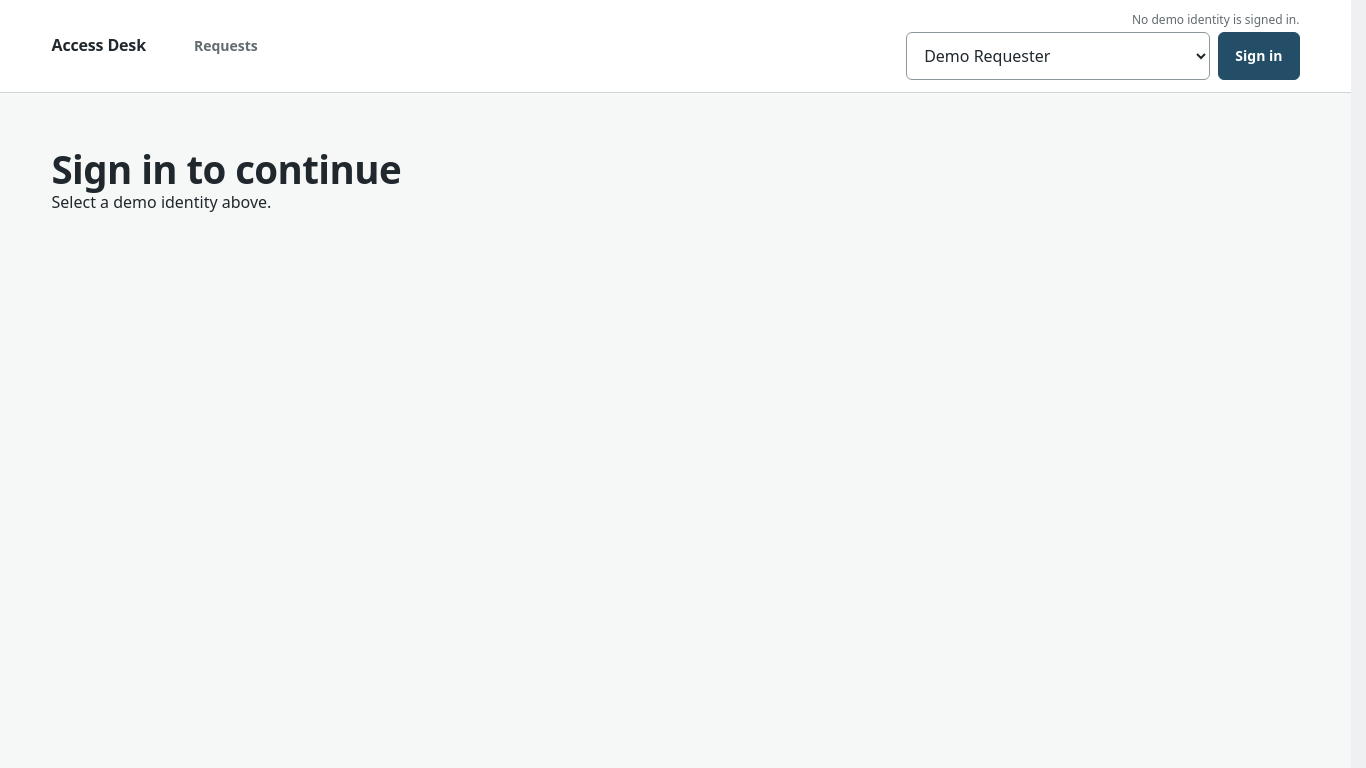
Scenario: application session wiring › opens a request URL and refreshes server-computed actions after identity switching
Expected: the heading "Sign in to continue" is shown, [52,143,401,195]
Select "Demo Requester" in the dropdown named "Demo identity" at (1058, 56), box [906,32,1210,80]
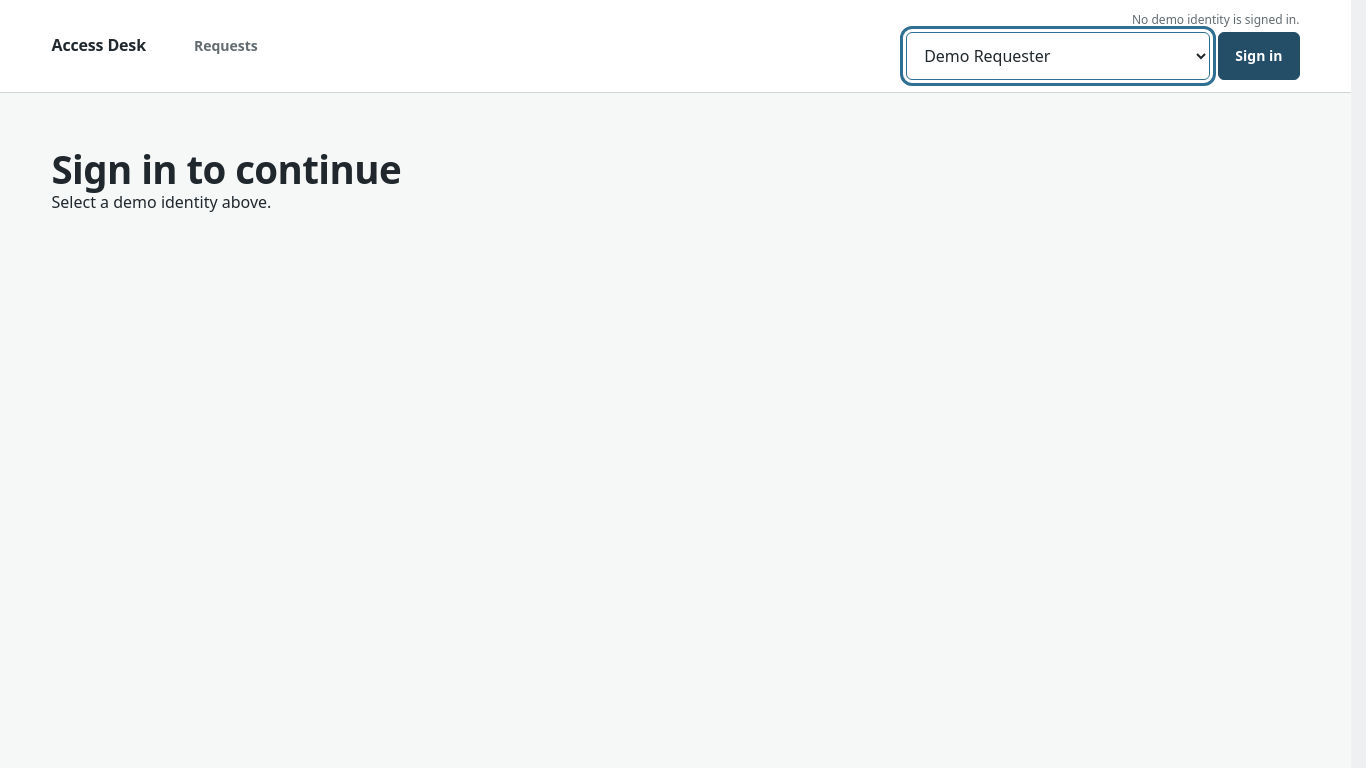
Click the button "Sign in" at (1259, 56), box [1218,32,1300,80]
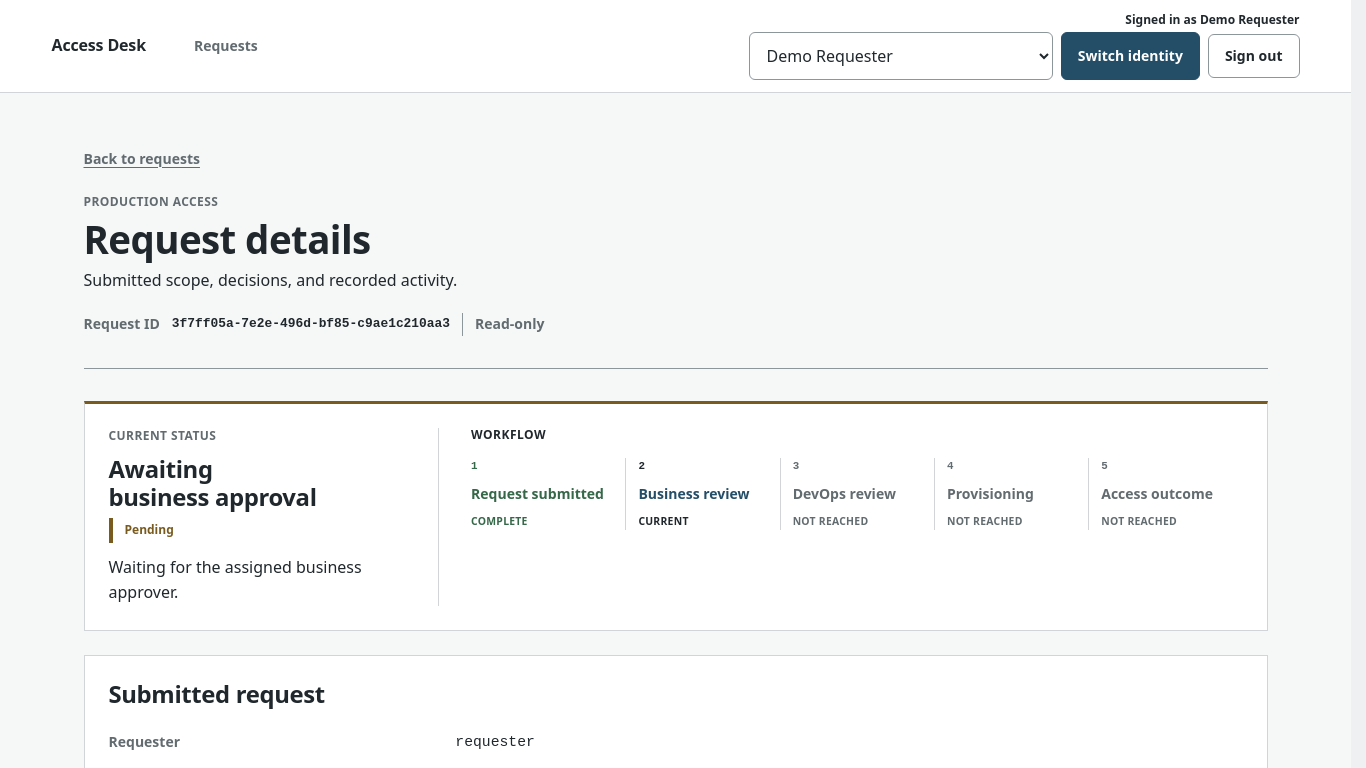
Now the heading "Request details" is shown, box [84,213,371,265]
Now the element "Awaiting business approval" is shown, box [84,401,1268,631]
Select "Client Alpha Business Approver" in the dropdown named "Demo identity" at (901, 56), box [749,32,1053,80]
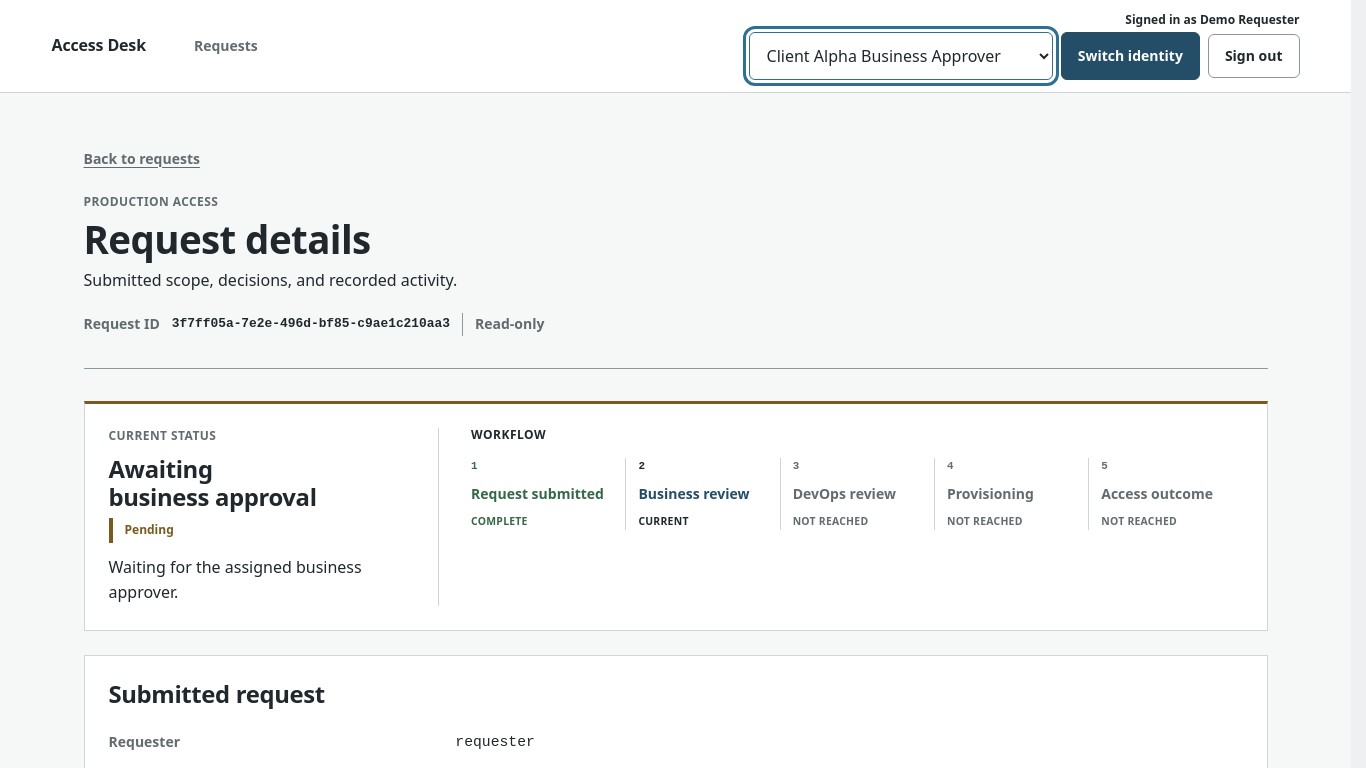
Click the button "Switch identity" at (1130, 56), box [1061,32,1200,80]
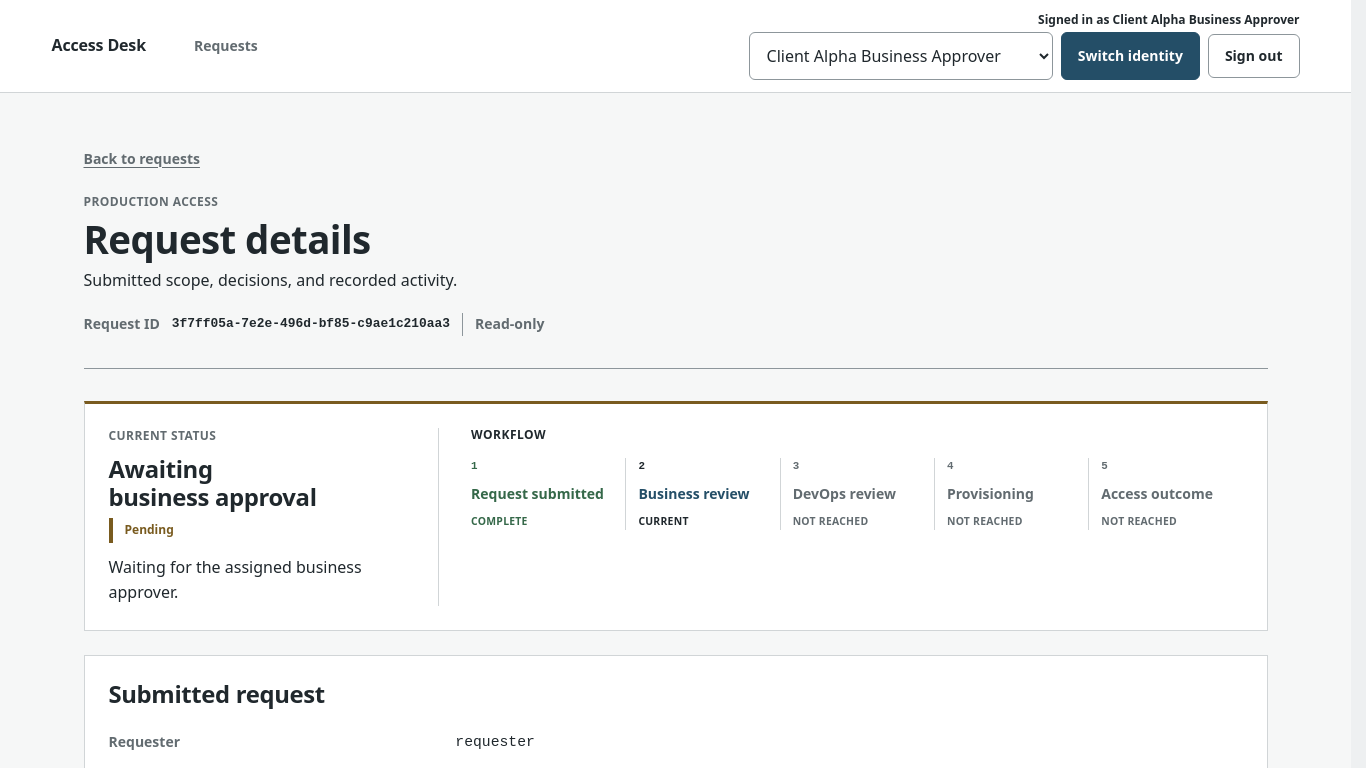
Now the element "Awaiting business approval" is shown, box [84,401,1268,631]
Now the text "Signed in as Client Alpha Business Approver" is shown, box [1038,12,1300,28]
